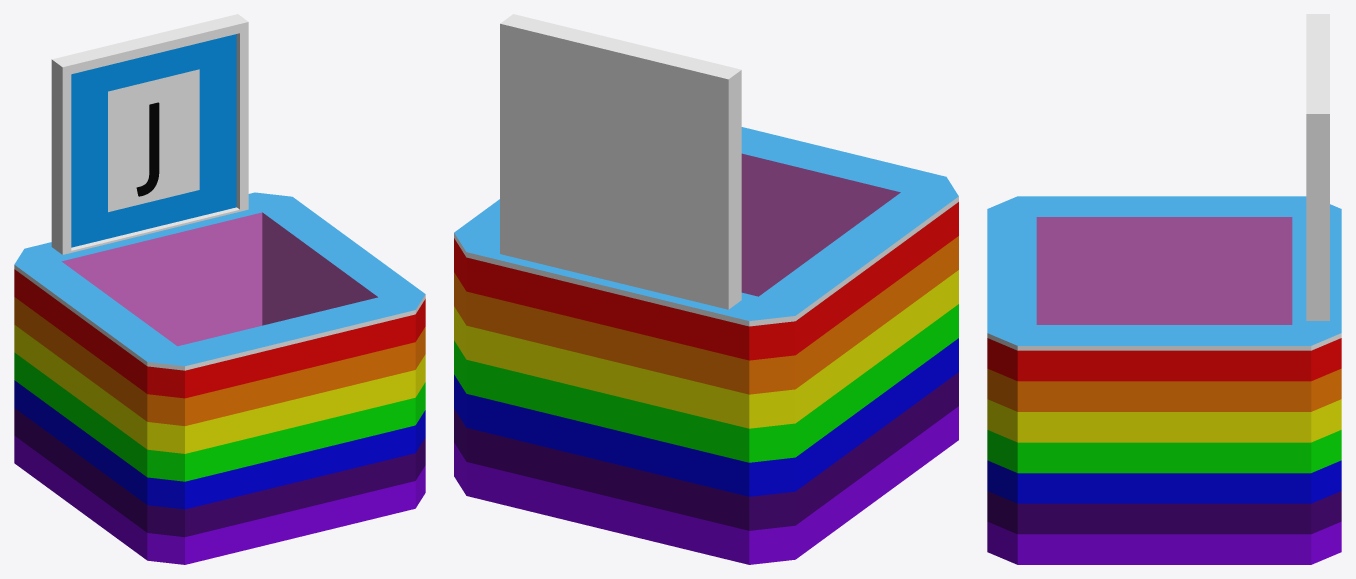
3 views of the same model, side by side, from view 1: azimuth 30°, elevation 25°; view 2: azimuth 150°, elevation 25°; view 3: azimuth 270°, elevation 25° (orthographic). The views are drawn at different scales.
Parts seen in each view (by area): view 1: Cube.001, Text; view 2: Cube.001; view 3: Cube.001.
Part boxes in pixels (box(x1,y1,x2,y2)): Cube.001: box(14, 14, 425, 564); Text: box(136, 102, 159, 196); Cube.001: box(454, 14, 958, 564); Cube.001: box(987, 14, 1341, 564).
Size of the model in its own units: 383 by 508 by 383.
